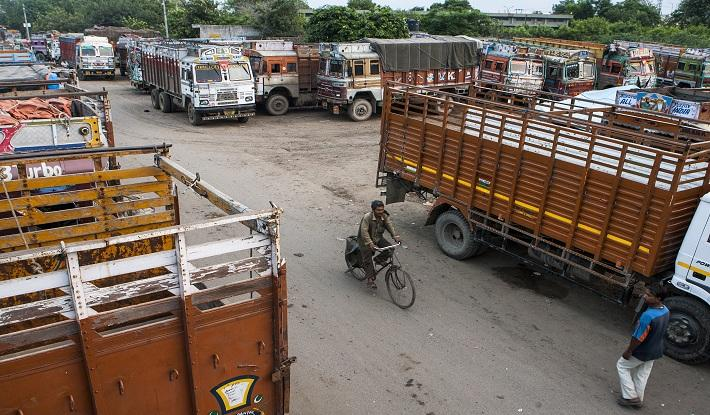Trucks: (378, 84, 709, 362), (0, 145, 294, 414), (317, 36, 481, 120), (140, 41, 255, 124), (516, 38, 656, 88), (244, 40, 318, 114), (479, 41, 544, 94), (537, 46, 596, 95), (59, 34, 114, 79)
